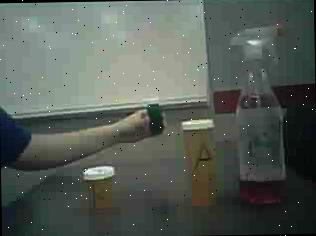Bottle A: (179, 115, 224, 212)
Bottle B: (82, 162, 123, 214)
Bottle C: (140, 92, 170, 138)
hazard: (225, 16, 296, 213)
